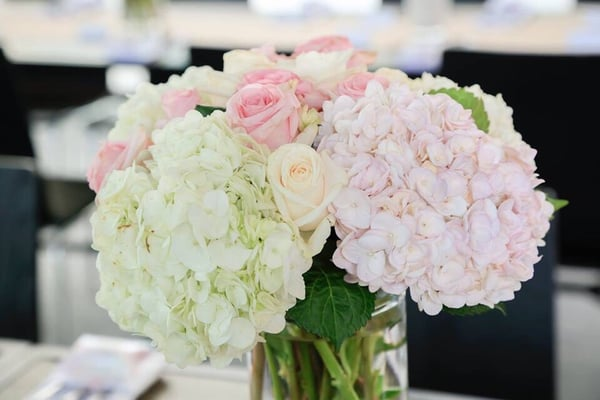soup: (250, 287, 409, 396)
